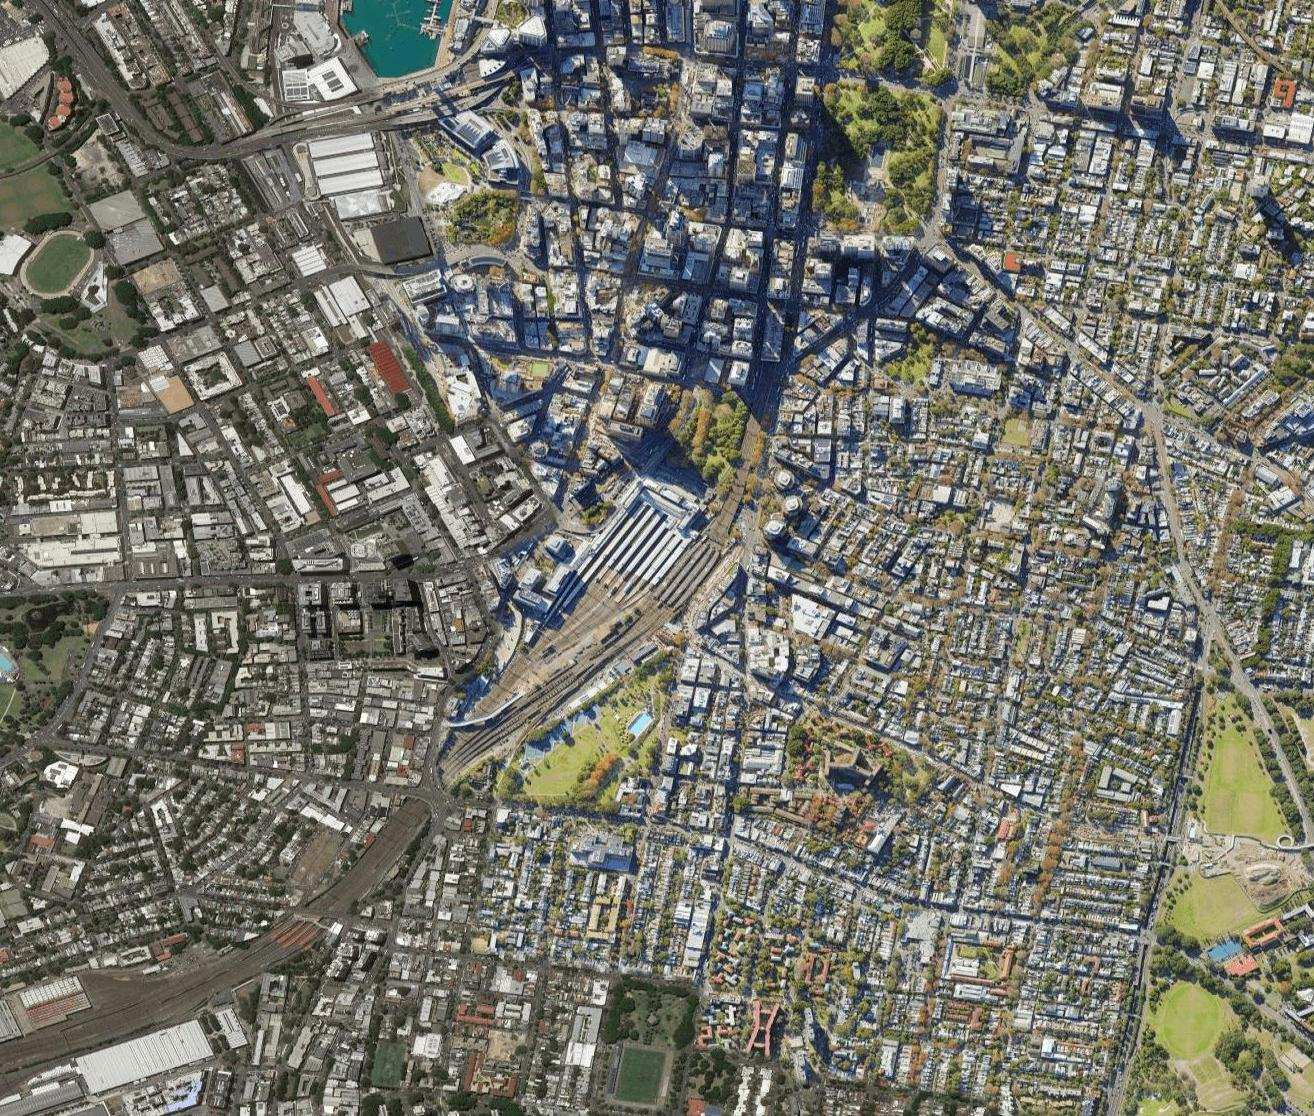train_station: (571, 472, 743, 645)
